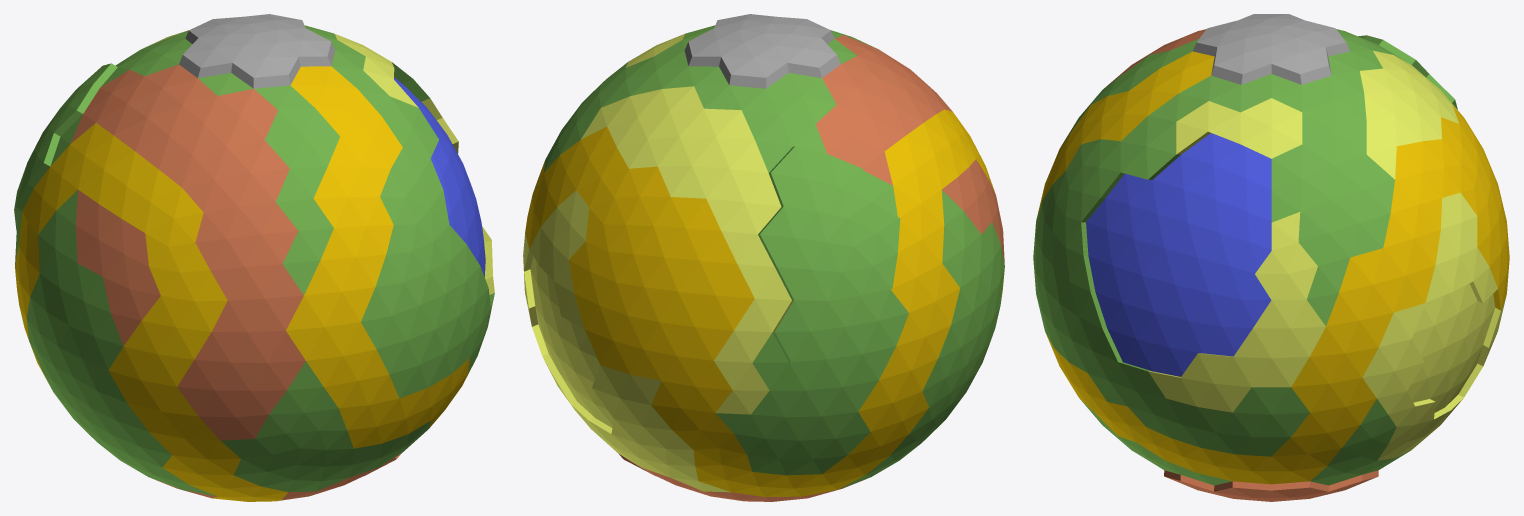
File: World3.fbx
3 views of the same model, side by side, from view 1: azimuth 30°, elevation 25°; view 2: azimuth 150°, elevation 25°; view 3: azimuth 270°, elevation 25° (orthographic).
Visible parts, largest first — view 1: Icosphere.001; view 2: Icosphere.001; view 3: Icosphere.001.
Part boxes in pixels (<box>): Icosphere.001: <box>14,14,494,501</box>; Icosphere.001: <box>523,14,1004,501</box>; Icosphere.001: <box>1033,14,1509,501</box>.
Bounding box in the file's own units: 2600 × 2651 × 2600.
